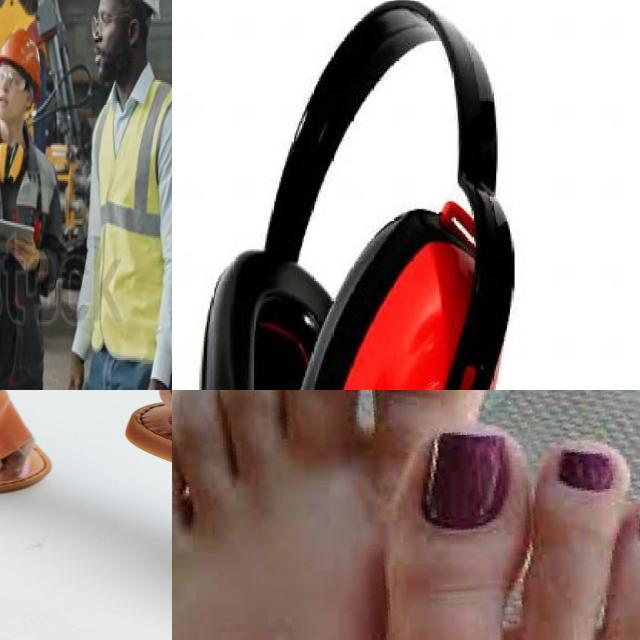Barefoots: (172, 390, 640, 640)
Ear-protection: (197, 6, 516, 390), (0, 130, 28, 195)
Sandals: (120, 390, 172, 616)
glasses: (0, 59, 31, 100), (88, 2, 115, 40)
head_helmet: (0, 0, 44, 98)
person: (75, 0, 172, 390), (0, 0, 76, 390)
